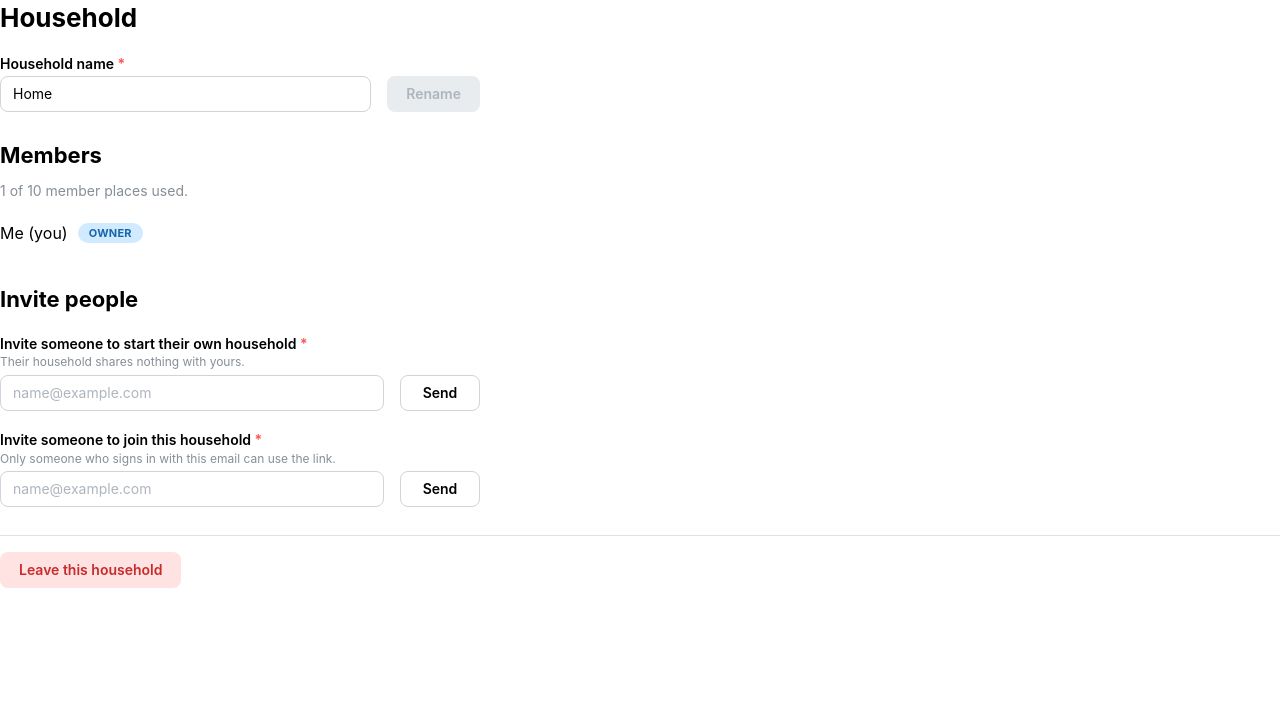
Test: household settings section › checks the address, then sends and copies only after confirmation
Check: the text "Me (you)" is shown, box [0, 221, 68, 246]
Type "friend@example" into the field labelled "Invite someone to join this household *". click: [192, 489]
box: [0, 471, 384, 507]
Click the button with aria-label "Send join invitation". click: [440, 489]
box: [400, 471, 480, 507]
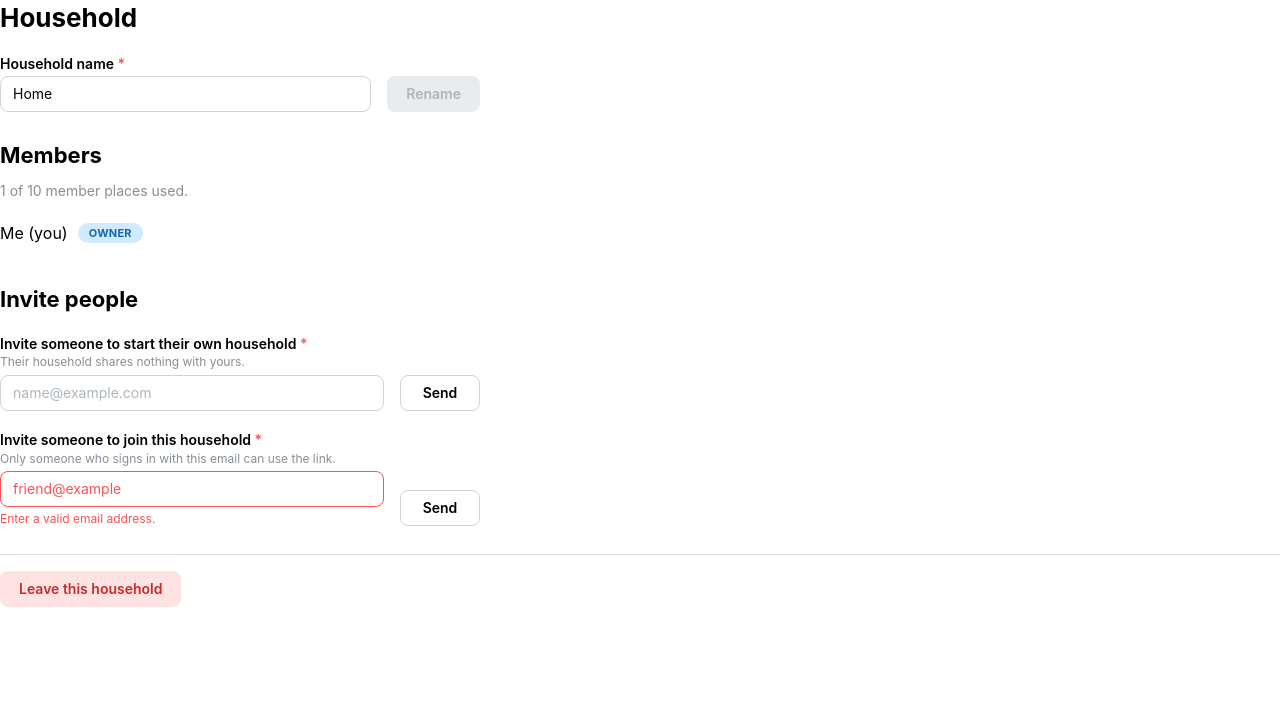
Check: the text "Enter a valid email address." is shown, box [0, 511, 155, 526]
Replace the text in the field labelled "Invite someone to join this household *" with "friend@example.com". click: [192, 489]
box: [0, 471, 384, 507]
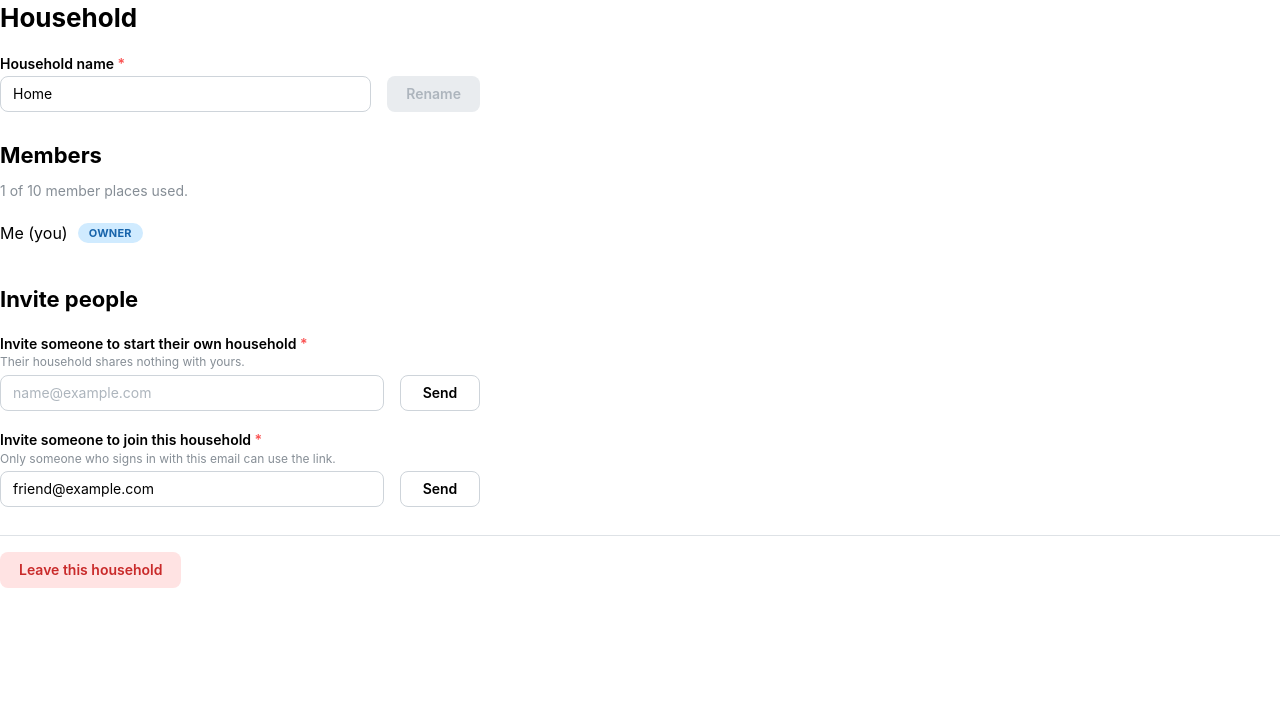
Click the button with aria-label "Send join invitation". click: [440, 489]
box: [400, 471, 480, 507]
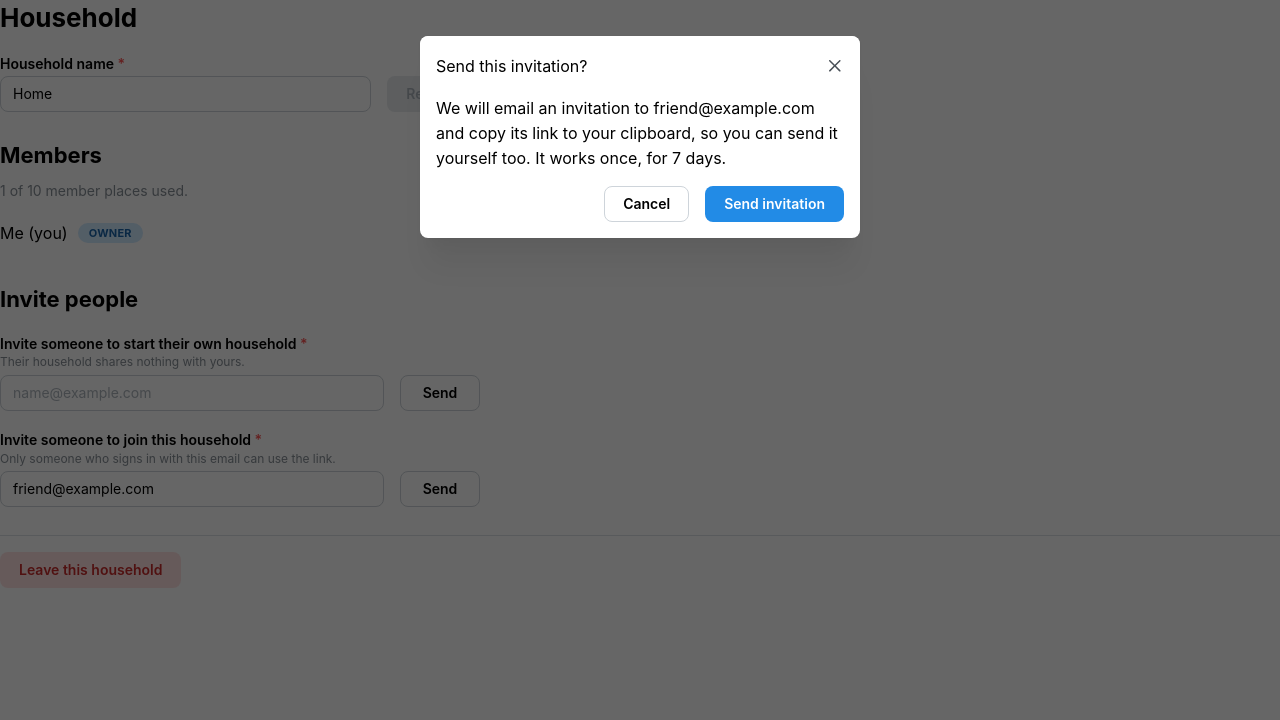
Check: the text "friend@example.com" is shown, box [436, 98, 838, 168]
Click the button "Cancel". click: [647, 204]
box: [604, 186, 689, 222]
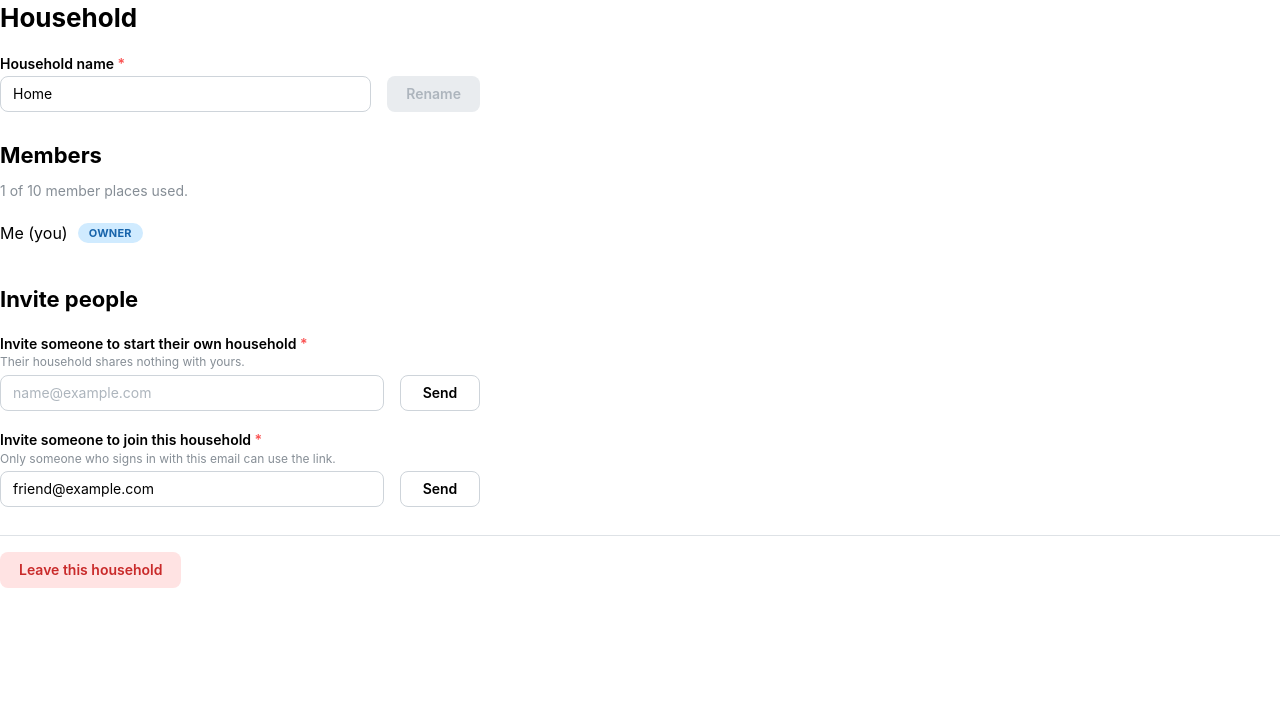
Check: the dialog is gone
Click the button with aria-label "Send join invitation". click: [440, 489]
box: [400, 471, 480, 507]
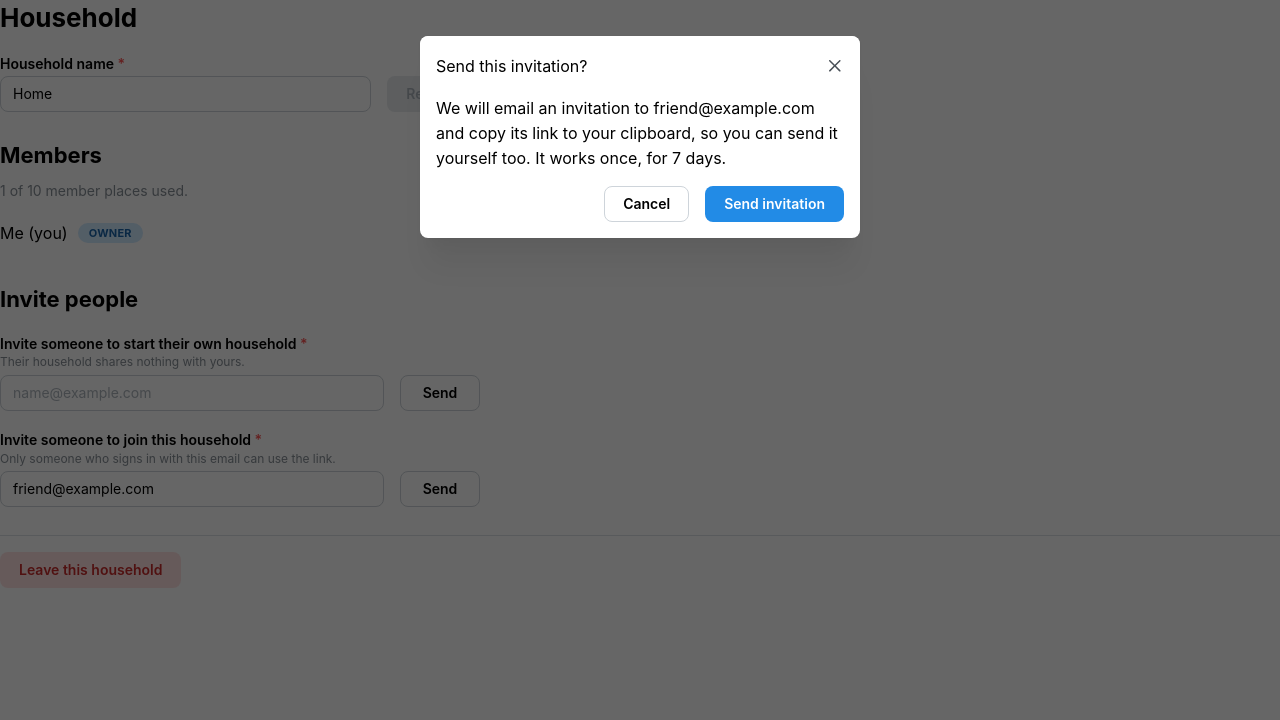
Click the button "Send invitation". click: [775, 204]
box: [705, 186, 844, 222]
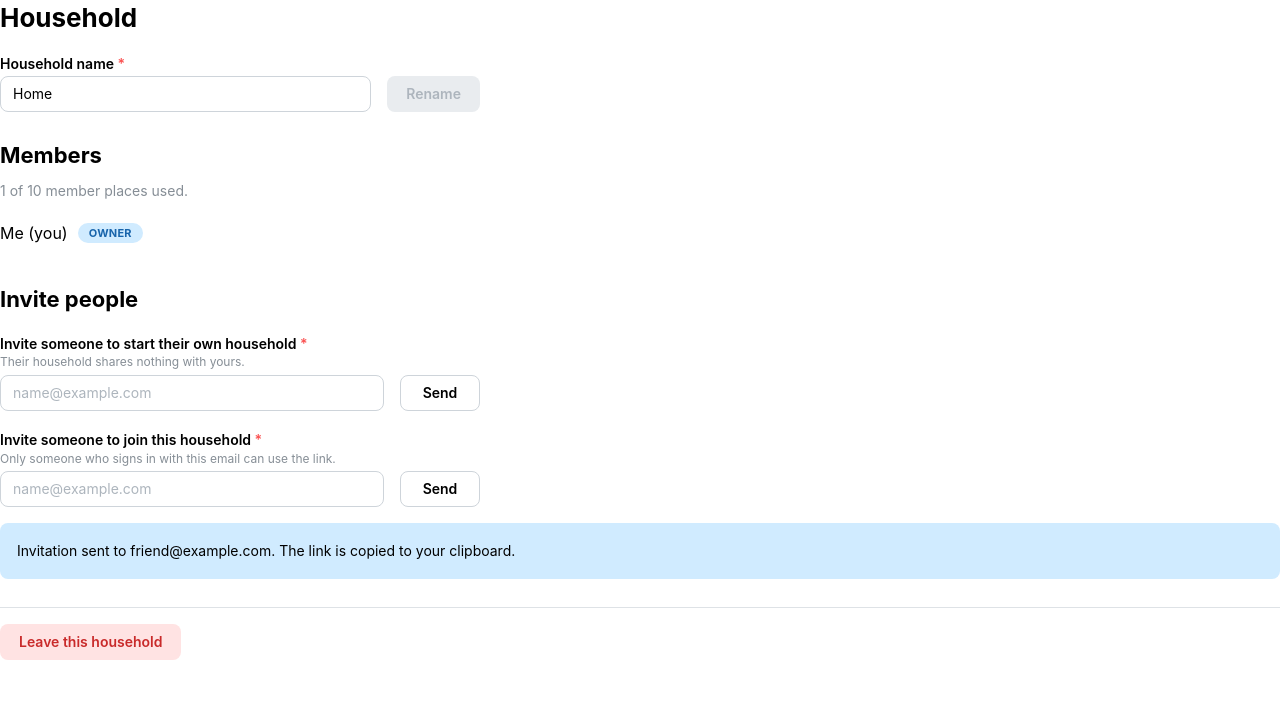
Check: the text "Invitation sent to friend@example.com" is shown, box [17, 542, 515, 559]
